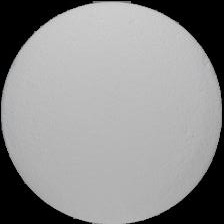54868-4564: (0, 0, 224, 224)
